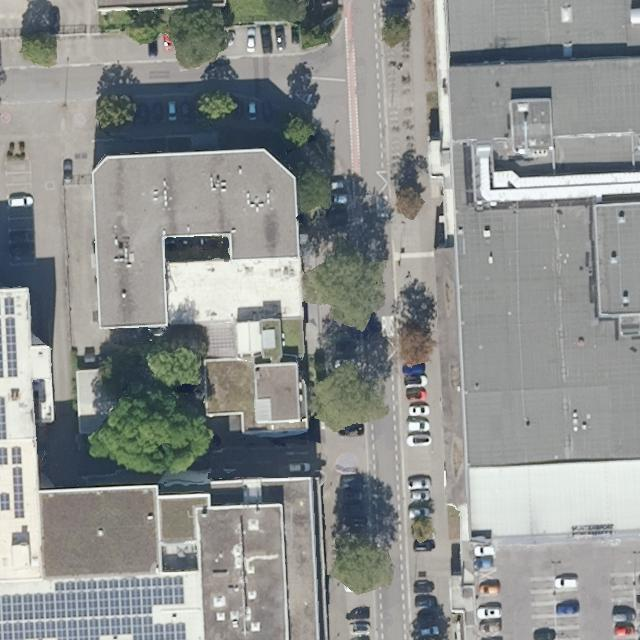PV: (1, 575, 188, 639), (0, 295, 18, 378), (1, 468, 24, 518), (1, 447, 23, 465), (1, 396, 8, 440)
